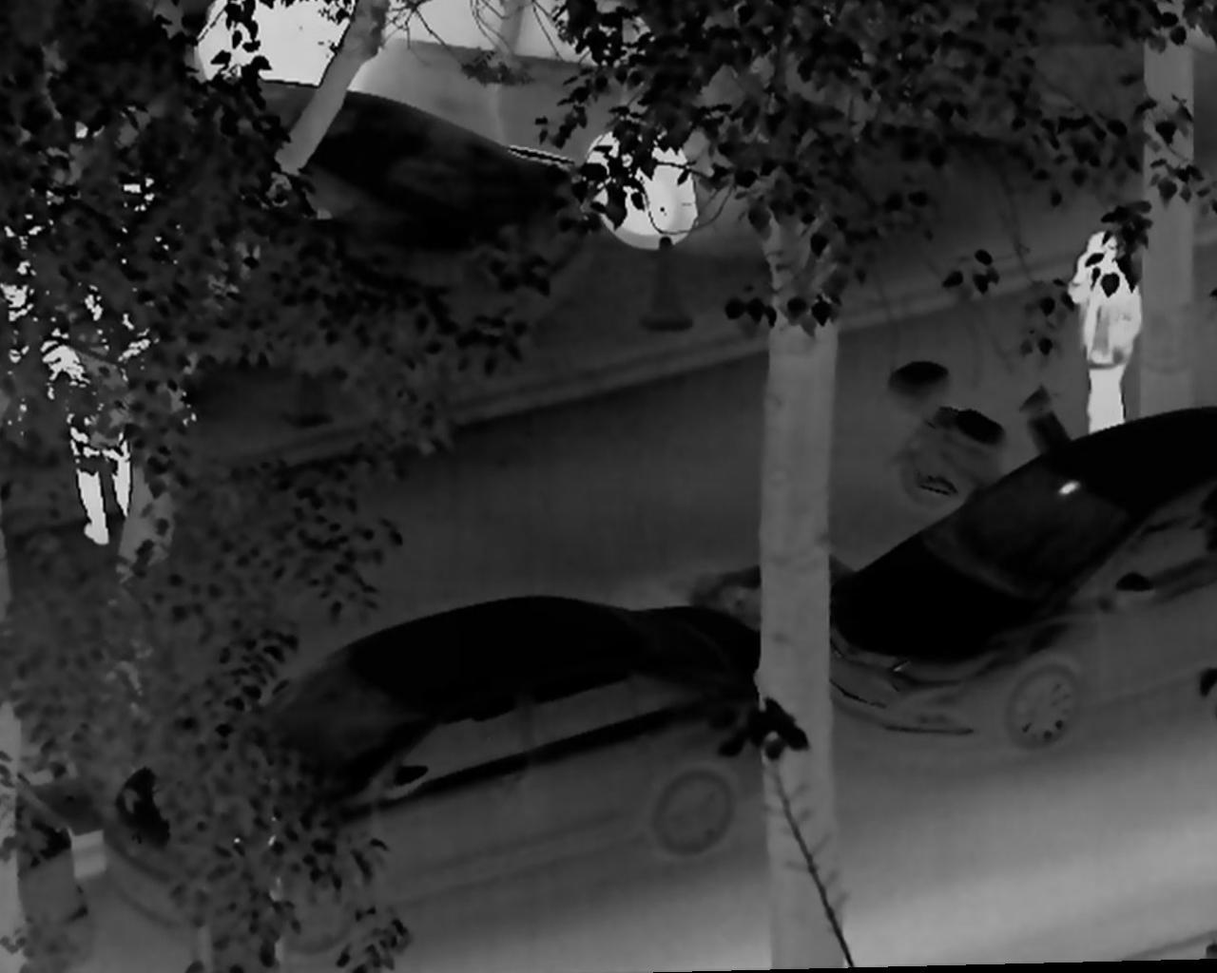person: (84, 115, 208, 429), (54, 260, 161, 549), (1066, 226, 1146, 446)
